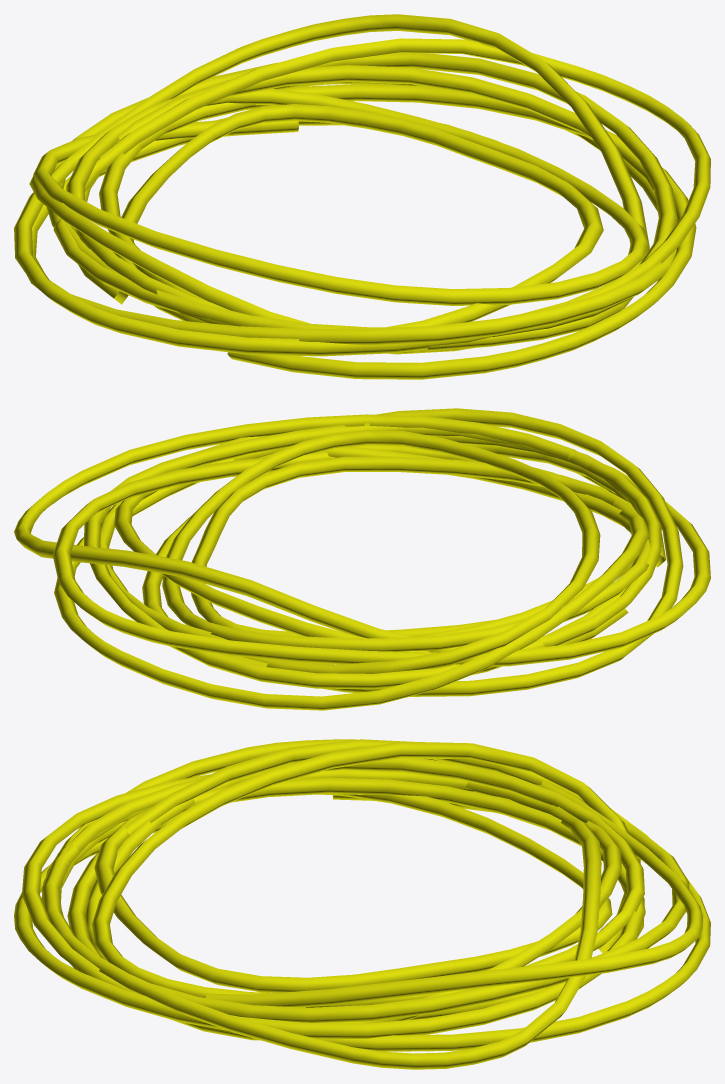
The model's file is hortum.fbx.
3 renders of one model, top to bottom at view 1: azimuth 30°, elevation 25°; view 2: azimuth 150°, elevation 25°; view 3: azimuth 270°, elevation 25°, orthographic. The views are drawn at different scales.
Parts seen in each view (by area): view 1: SM_CordWrap_01a_Internal:Mesh; view 2: SM_CordWrap_01a_Internal:Mesh; view 3: SM_CordWrap_01a_Internal:Mesh.
Boxes of the visible parts, x1,y1,x2,y2 form: SM_CordWrap_01a_Internal:Mesh: [14, 14, 710, 379]; SM_CordWrap_01a_Internal:Mesh: [14, 408, 710, 710]; SM_CordWrap_01a_Internal:Mesh: [14, 739, 710, 1069].
Size of the model in its own units: 97.64 by 12.28 by 91.49.
